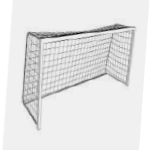goals: (22, 21, 138, 134)
